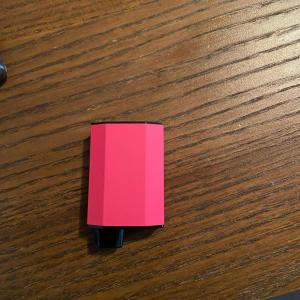Blume-E-Ciggirate: (73, 110, 175, 250)
